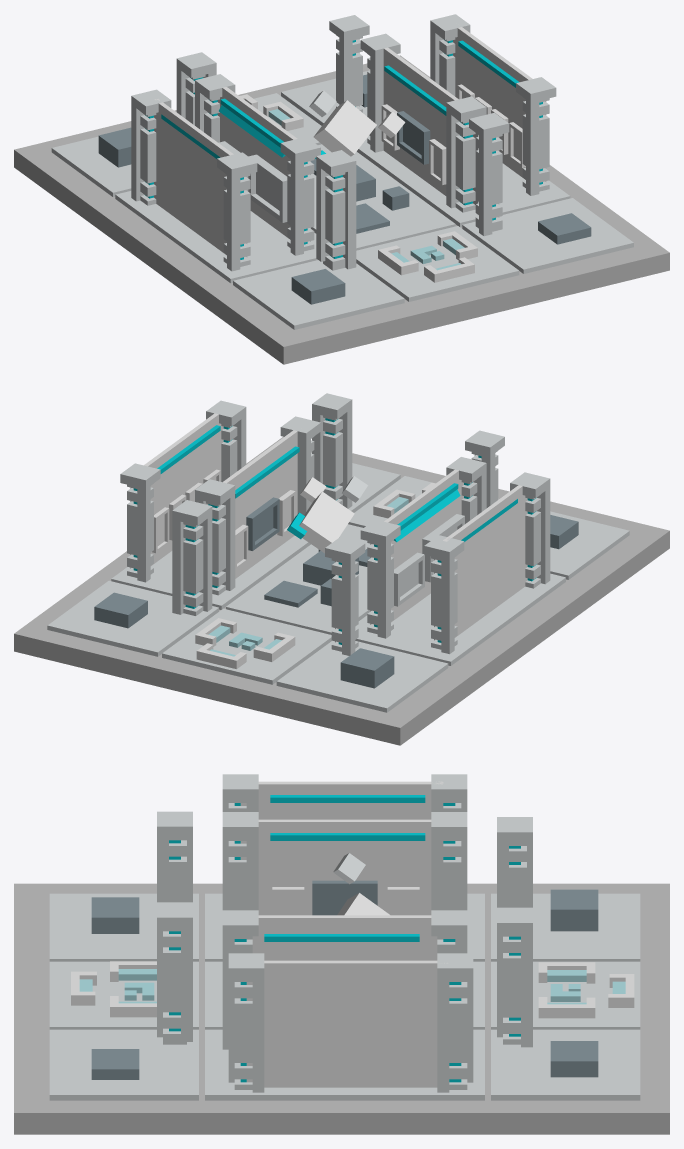
File: plot.gltf
The picture shows the model from 3 angles, top to bottom: view 1: azimuth 30°, elevation 25°; view 2: azimuth 150°, elevation 25°; view 3: azimuth 270°, elevation 25°; orthographic projection. The views are drawn at different scales.
Visible parts, largest first — view 1: mesh656191759, mesh1942364772, mesh985830789, mesh90543103, mesh1675820717, mesh1637909053, mesh1130891968, mesh1563131716, mesh1088089981, mesh429450211, mesh1638011133, mesh537072350 (+10 smaller); view 2: mesh656191759, mesh1942364772, mesh985830789, mesh1675820717, mesh90543103, mesh1563131716, mesh1130891968, mesh1637909053, mesh952710084, mesh1067756384, mesh1638011133, mesh496839335 (+9 smaller); view 3: mesh656191759, mesh1942364772, mesh1675820717, mesh1130891968, mesh90543103, mesh1637909053, mesh985830789, mesh1563131716, mesh952710084, mesh1067756384, mesh141874807, mesh429450211 (+6 smaller).
Part boxes in pixels (x1,y1,x2,y2): mesh656191759: [51, 70, 633, 329]; mesh1942364772: [14, 55, 669, 364]; mesh985830789: [131, 89, 257, 271]; mesh90543103: [360, 33, 486, 212]; mesh1675820717: [430, 14, 556, 195]; mesh1637909053: [316, 112, 509, 270]; mesh1130891968: [195, 74, 320, 255]; mesh1563131716: [176, 15, 369, 125]; mesh1088089981: [378, 231, 477, 282]; mesh429450211: [291, 213, 591, 304]; mesh1638011133: [381, 104, 446, 185]; mesh537072350: [313, 100, 376, 156]; mesh656191759: [47, 453, 629, 712]; mesh1942364772: [14, 436, 669, 745]; mesh985830789: [424, 472, 550, 654]; mesh1675820717: [120, 400, 246, 582]; mesh90543103: [195, 416, 320, 595]; mesh1563131716: [172, 500, 365, 655]; mesh1130891968: [360, 457, 486, 638]; mesh1637909053: [312, 393, 504, 508]; mesh952710084: [94, 592, 394, 688]; mesh1067756384: [195, 618, 295, 669]; mesh1638011133: [235, 490, 295, 570]; mesh496839335: [394, 514, 464, 606]; mesh656191759: [49, 893, 640, 1100]; mesh1942364772: [14, 883, 669, 1134]; mesh1675820717: [228, 953, 473, 1092]; mesh1130891968: [222, 812, 467, 915]; mesh90543103: [222, 910, 467, 1049]; mesh1637909053: [157, 811, 192, 1044]; mesh985830789: [222, 774, 467, 819]; mesh1563131716: [497, 817, 532, 1047]; mesh952710084: [550, 889, 598, 1077]; mesh1067756384: [538, 962, 634, 1018]; mesh141874807: [272, 880, 419, 915]; mesh429450211: [91, 897, 139, 1079].
Bounding box in the file's own units: 0.91 × 0.2926 × 1.1.
